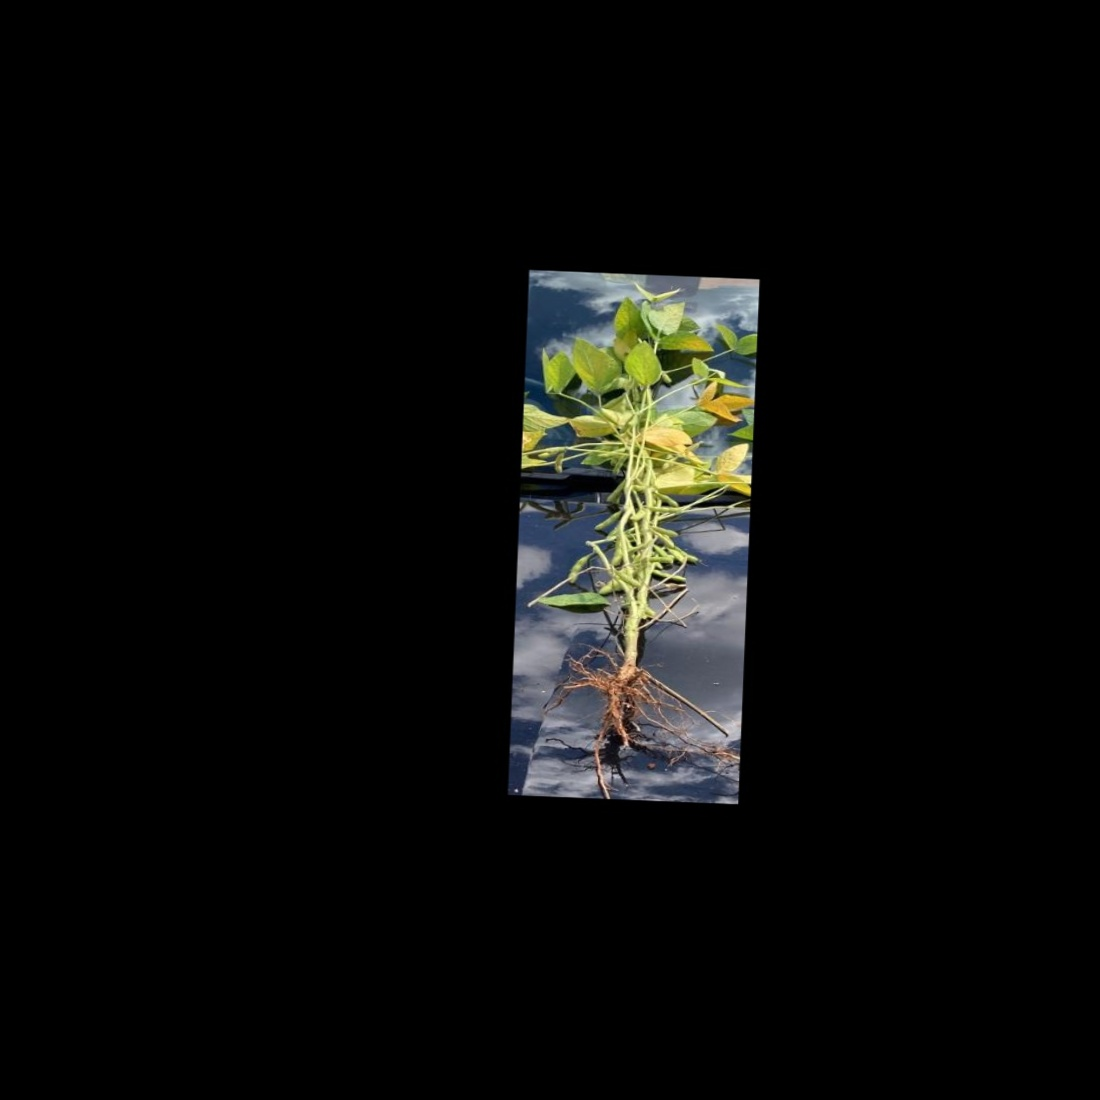pod: (565, 549, 592, 588), (592, 507, 622, 534), (602, 478, 626, 506), (649, 567, 687, 581), (653, 490, 680, 507), (643, 553, 674, 565), (646, 504, 682, 514)
soy: (518, 278, 745, 767)
